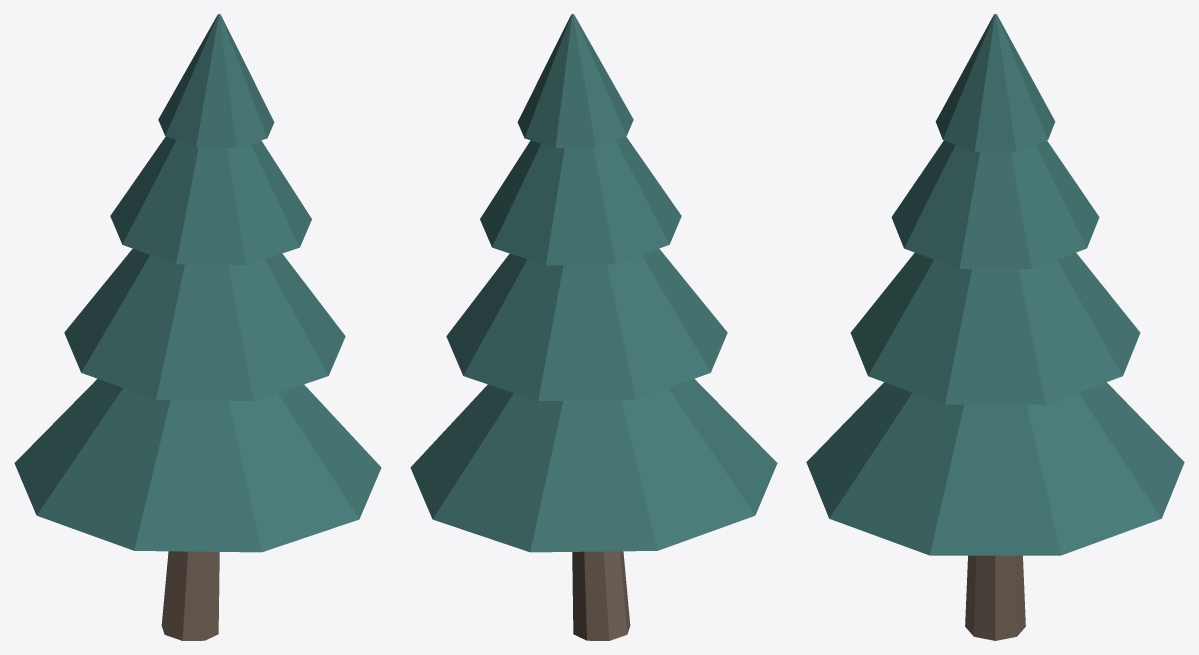
Rendered from arvore.glb.
The picture shows the model from 3 angles, left to right: view 1: azimuth 30°, elevation 25°; view 2: azimuth 150°, elevation 25°; view 3: azimuth 270°, elevation 25°; orthographic projection. The views are drawn at different scales.
Visible parts, largest first — view 1: pedreira_arvore; view 2: pedreira_arvore; view 3: pedreira_arvore.
Boxes of the visible parts, x1,y1,x2,y2 form: pedreira_arvore: (14, 14, 381, 640); pedreira_arvore: (410, 14, 777, 640); pedreira_arvore: (806, 14, 1184, 640).
Size of the model in its own units: 1.16 by 2.17 by 1.18.
